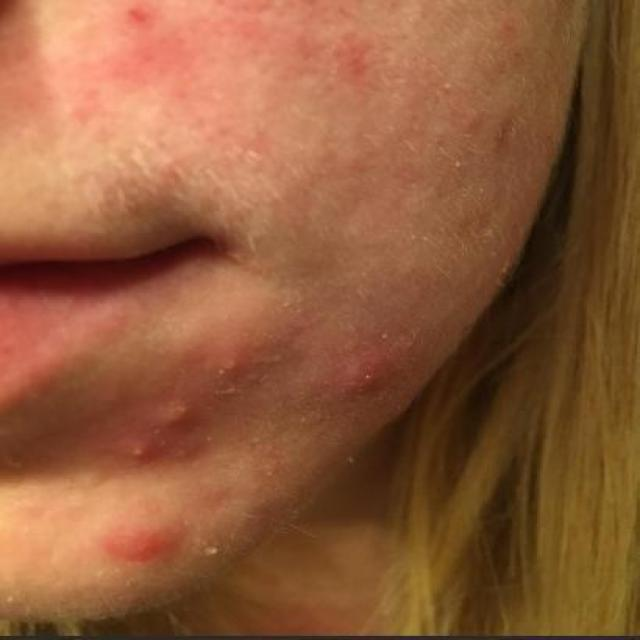8: (218, 330, 288, 394), (136, 391, 204, 432), (119, 441, 167, 486)
pustules: (103, 506, 187, 582), (338, 340, 408, 397)
